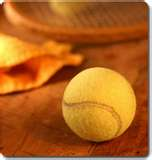tennis ball: (61, 66, 138, 143)
